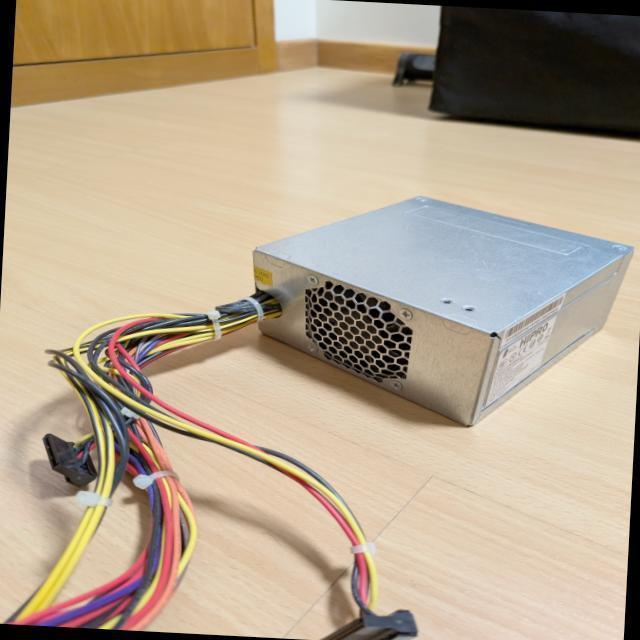PSU: (243, 186, 637, 435)
